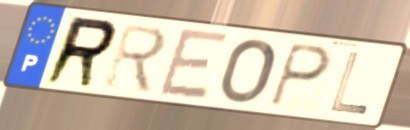E: (155, 26, 232, 102)
L: (327, 50, 370, 117)
O: (217, 37, 278, 106)
P: (267, 41, 333, 109)
R: (40, 14, 121, 91), (101, 21, 170, 97)
